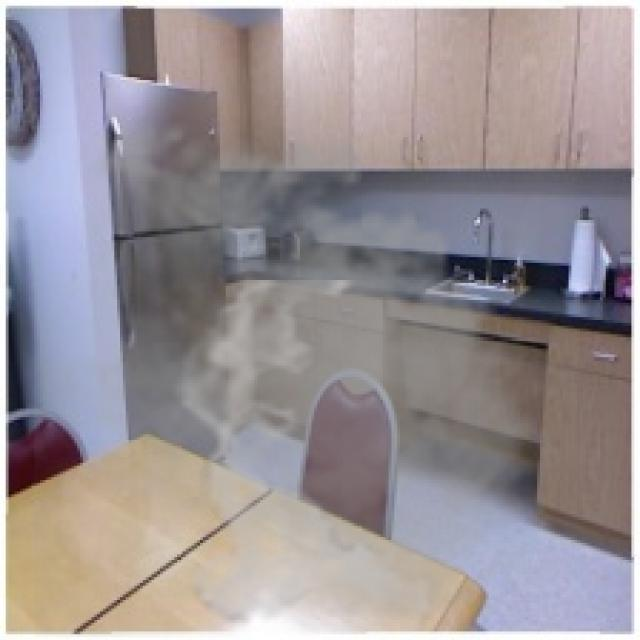Smoke: (34, 105, 569, 638)
